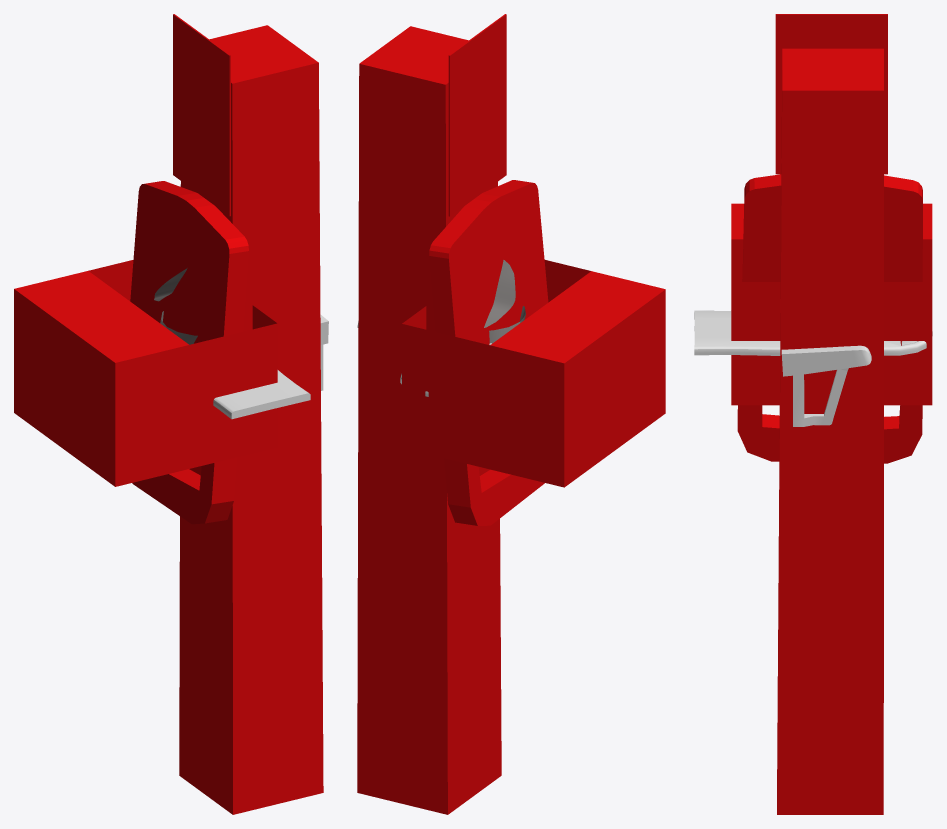
File: modelos decorativos.fbx
3 views of the same model, side by side, from view 1: azimuth 30°, elevation 25°; view 2: azimuth 150°, elevation 25°; view 3: azimuth 270°, elevation 25° (orthographic).
Visible parts, largest first — view 1: incendioos, bolsa para dormir, Lata; view 2: incendioos, Lata; view 3: incendioos, banco, bolsa para dormir.
Boxes of the visible parts, box(x1,y1,x2,y2) form: incendioos: box(14, 14, 323, 814); bolsa para dormir: box(213, 370, 310, 419); Lata: box(154, 268, 197, 344); incendioos: box(357, 14, 665, 814); Lata: box(484, 260, 525, 343); incendioos: box(731, 14, 932, 814); banco: box(781, 345, 871, 426); bolsa para dormir: box(694, 310, 932, 355).
Bounding box in the file's own units: 553 × 1683 × 481.
